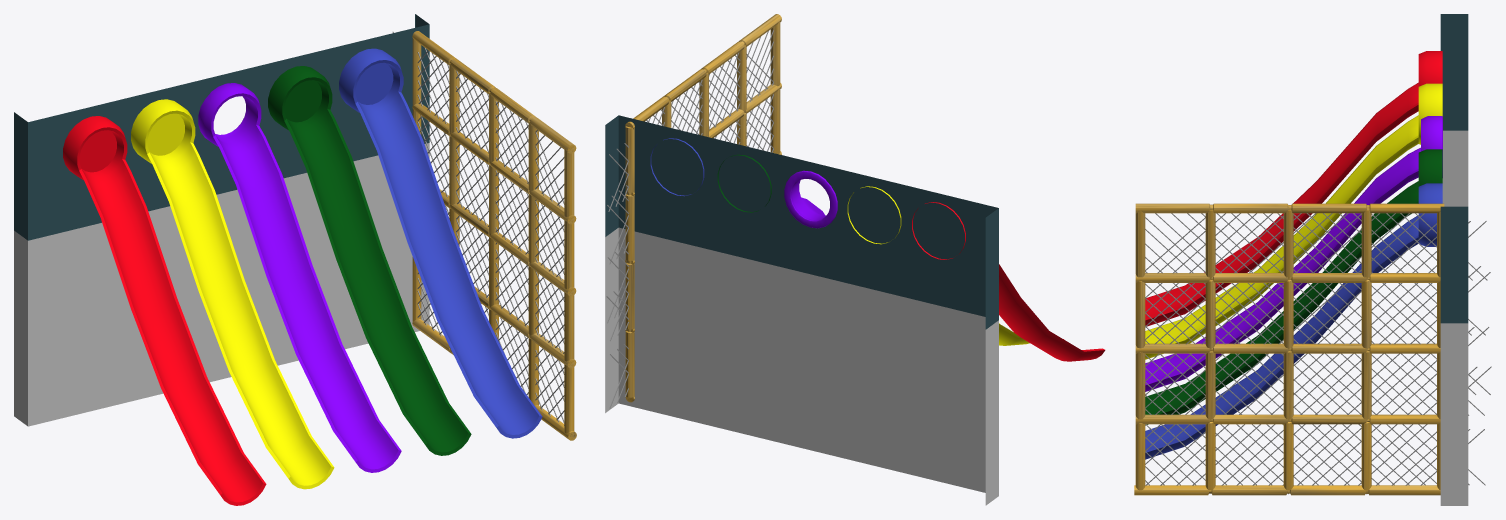
File: Escorregador.fbx
The picture shows the model from 3 angles, left to right: view 1: azimuth 30°, elevation 25°; view 2: azimuth 150°, elevation 25°; view 3: azimuth 270°, elevation 25°; orthographic projection. The views are drawn at different scales.
Parts seen in each view (by area): view 1: Escorregador; view 2: Escorregador; view 3: Escorregador.
Part boxes in pixels (x1,y1,x2,y2): Escorregador: (14,14,576,505); Escorregador: (605,14,1105,505); Escorregador: (1134,14,1491,505).
Size of the model in its own units: 941 by 681 by 737.
